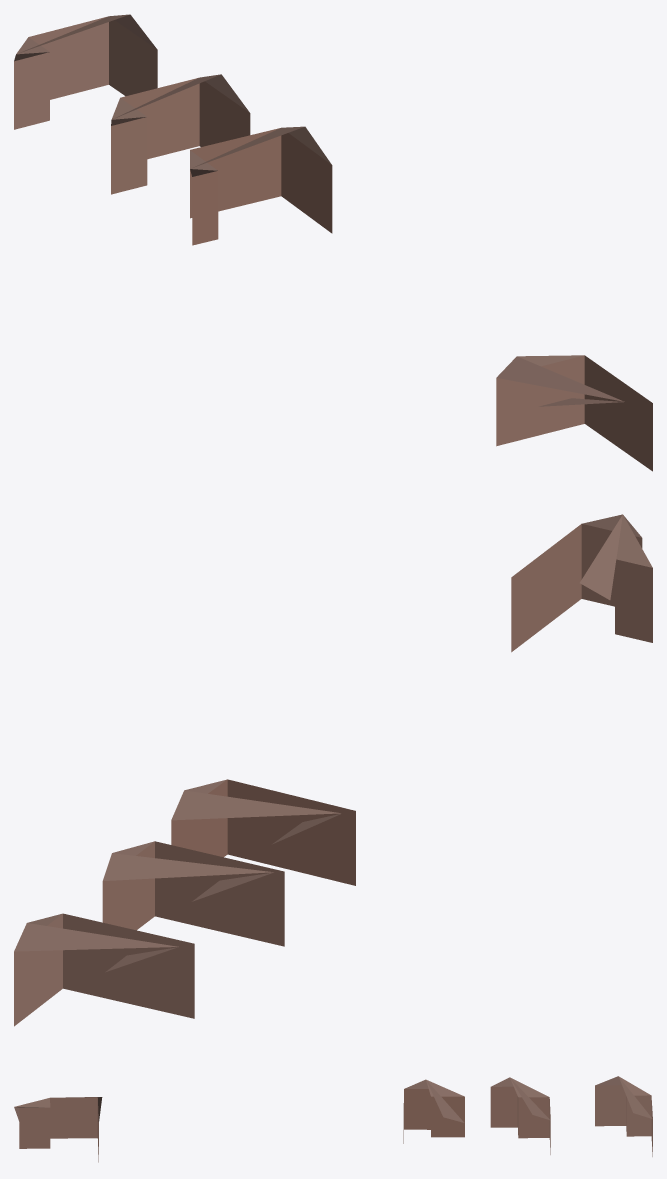
File: c_1633_17834_buildings_residential.glb
The picture shows the model from 3 angles, top to bottom: view 1: azimuth 30°, elevation 25°; view 2: azimuth 150°, elevation 25°; view 3: azimuth 270°, elevation 25°; orthographic projection. The views are drawn at different scales.
Visible parts, largest first — view 1: geometry_0; view 2: geometry_0; view 3: geometry_0.
Boxes of the visible parts, x1=… form: geometry_0: x1=14, y1=14, x2=652, y2=471; geometry_0: x1=14, y1=514, x2=652, y2=1026; geometry_0: x1=14, y1=1076, x2=652, y2=1162.
Bounding box in the file's own units: 19.59 × 10.96 × 128.
